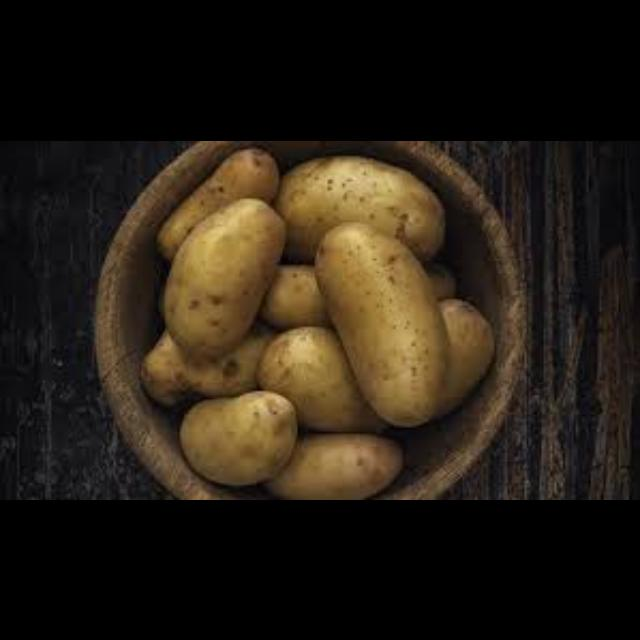Diseased-fungal potato: (312, 218, 448, 428), (160, 195, 292, 359), (172, 389, 300, 487)
